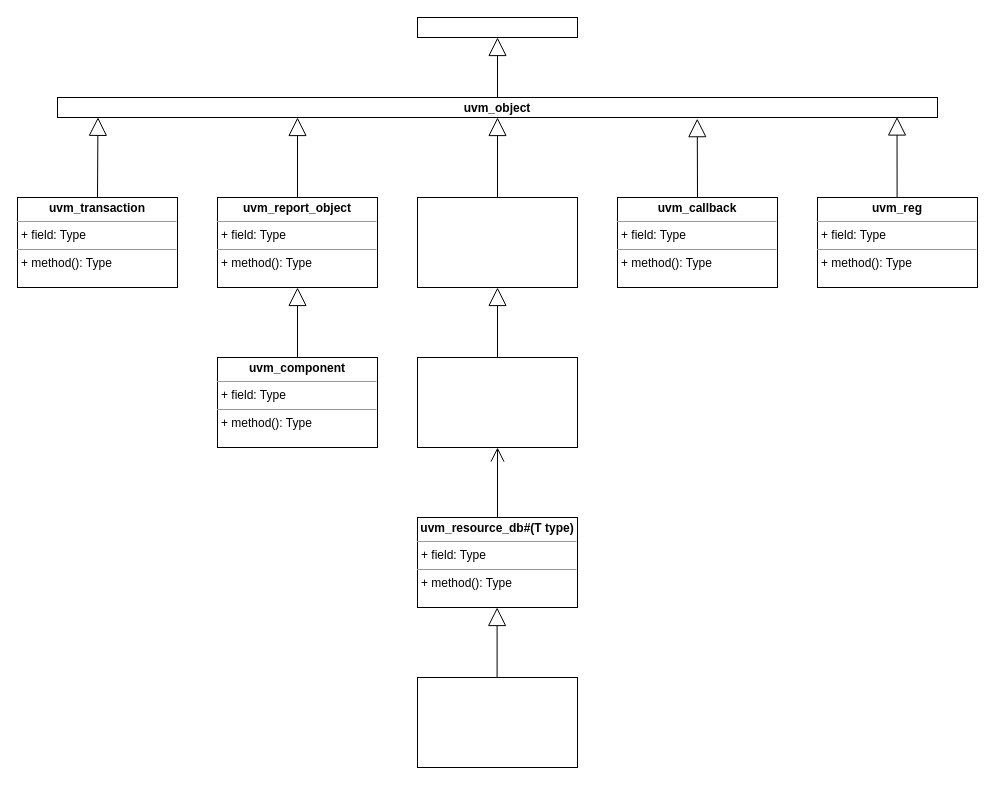
This 995x785 diagram has some shape labels left out. The shapes that lost their labels are listed below. From the top down, each one's centre as x and y in pixels, then its label:
At (x=497, y=27): "uvm_void".
At (x=497, y=242): "uvm_resource_base + field: Type + method(): Type".
At (x=497, y=402): "uvm_resource#(T type) + field: Type + method(): Type".
At (x=497, y=722): "uvm_config_db#(T type) + field: Type + method(): Type".
